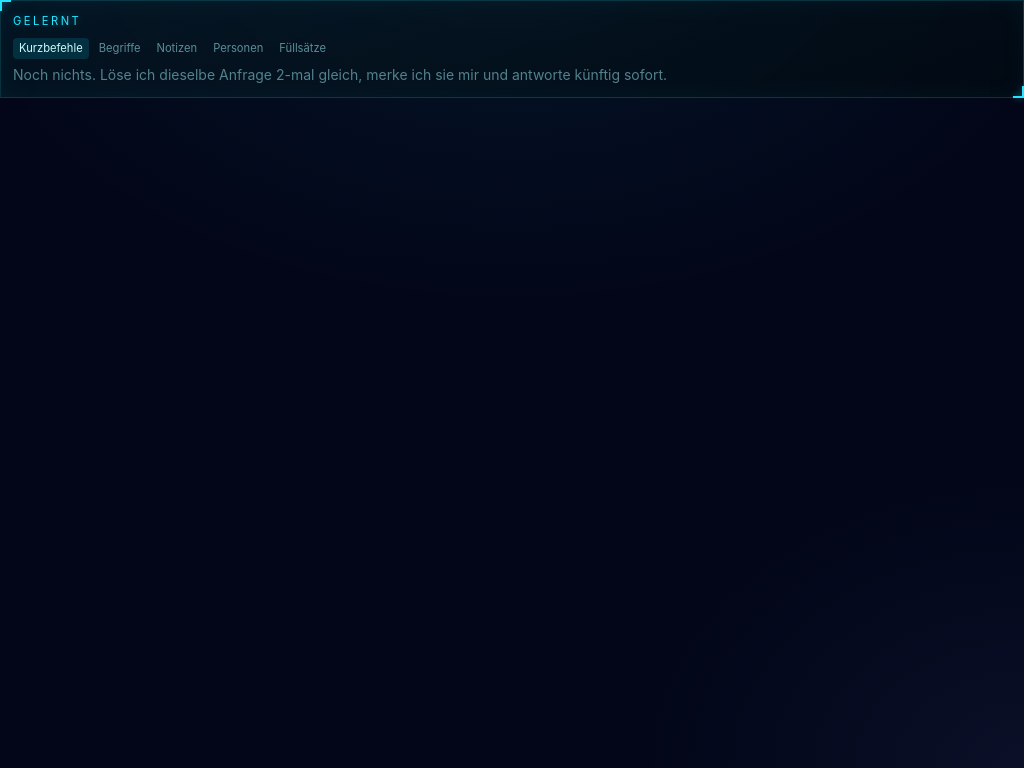
Test case: LearnedPanel mit Gedächtnis › wechselt zwischen Notizen, Personen und Füllsätzen
The image size is (1024, 768).
Click the tab "Notizen": (177, 48) x1=150 y1=38 x2=203 y2=59
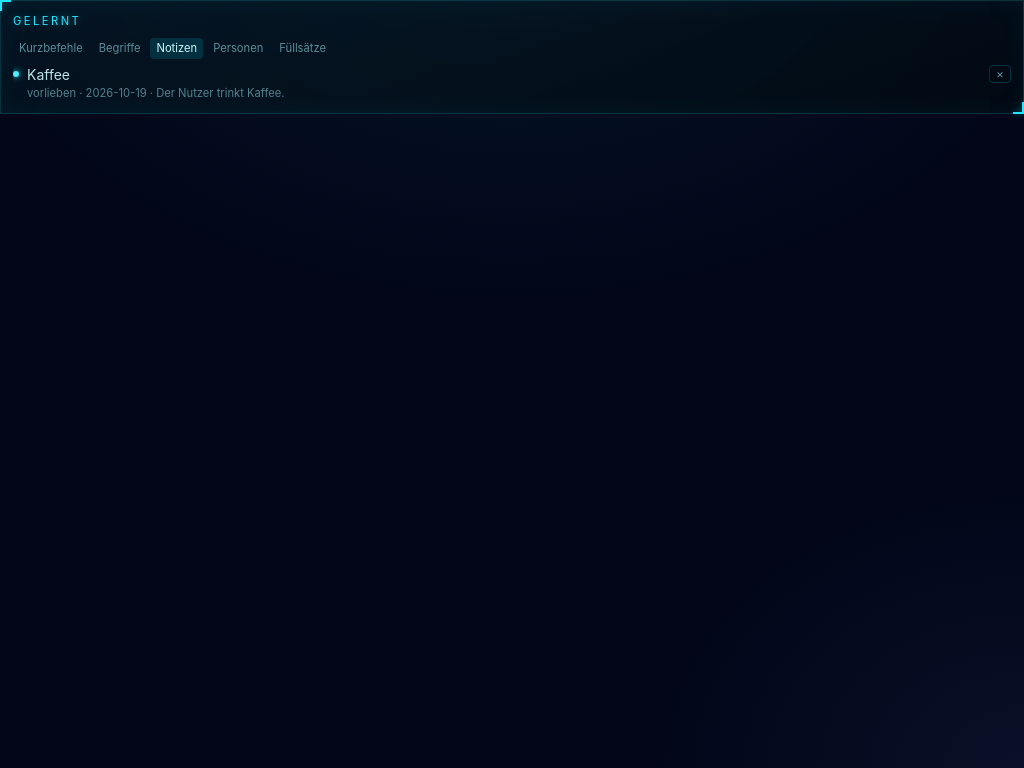
Expected: the text "Kaffee" is shown, x1=27 y1=66 x2=70 y2=83
Click the tab "Personen": (238, 48) x1=207 y1=38 x2=269 y2=59
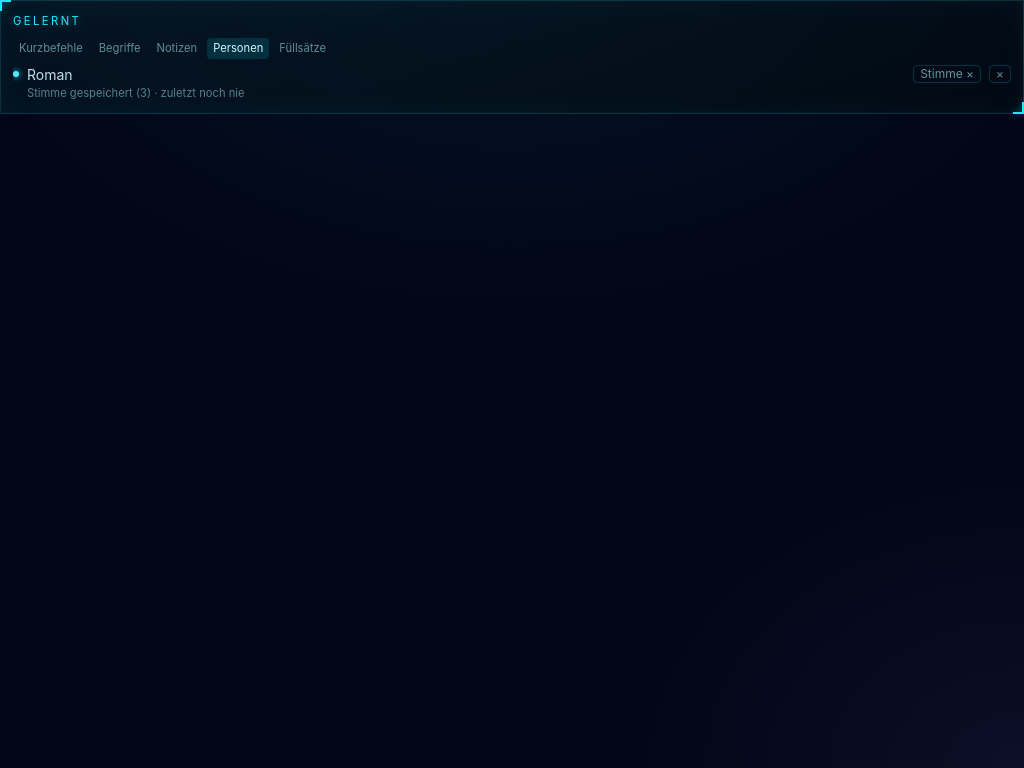
Expected: the text "Roman" is shown, x1=27 y1=66 x2=73 y2=83
Expected: the text "Stimme gespeichert (3) · zuletzt noch nie" is shown, x1=27 y1=86 x2=244 y2=100
Click the tab "Füllsätze": (303, 48) x1=273 y1=38 x2=332 y2=59
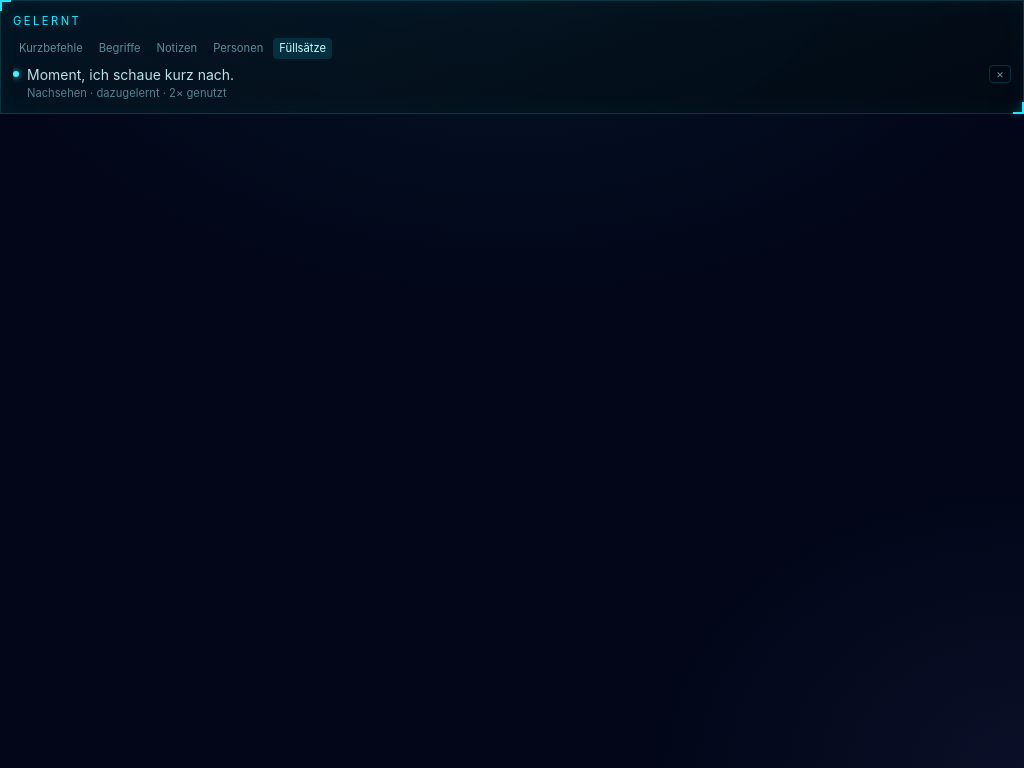
Expected: the text "Moment, ich schaue kurz nach." is shown, x1=27 y1=66 x2=234 y2=83
Expected: the text "Nachsehen · dazugelernt · 2× genutzt" is shown, x1=27 y1=86 x2=227 y2=100
